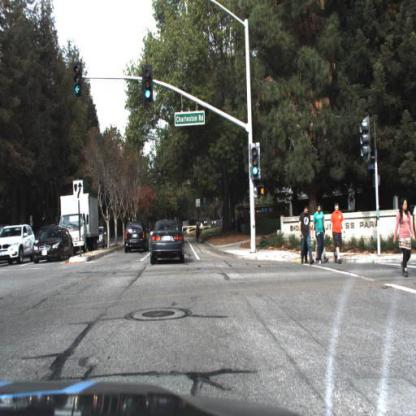car: (151, 217, 187, 266), (1, 222, 38, 266), (33, 228, 76, 264), (124, 218, 149, 254), (99, 225, 108, 248)
pedestrian: (393, 197, 416, 280), (330, 203, 345, 263), (299, 209, 313, 265), (315, 203, 327, 265), (194, 215, 204, 244), (195, 220, 202, 243), (241, 214, 247, 235)
trafficLight: (141, 63, 155, 105), (72, 60, 85, 100), (249, 143, 261, 181)
trafficLight-Green: (142, 66, 154, 105)
trafficLight-GreenLeft: (73, 64, 83, 97)
truck: (63, 194, 101, 252)
